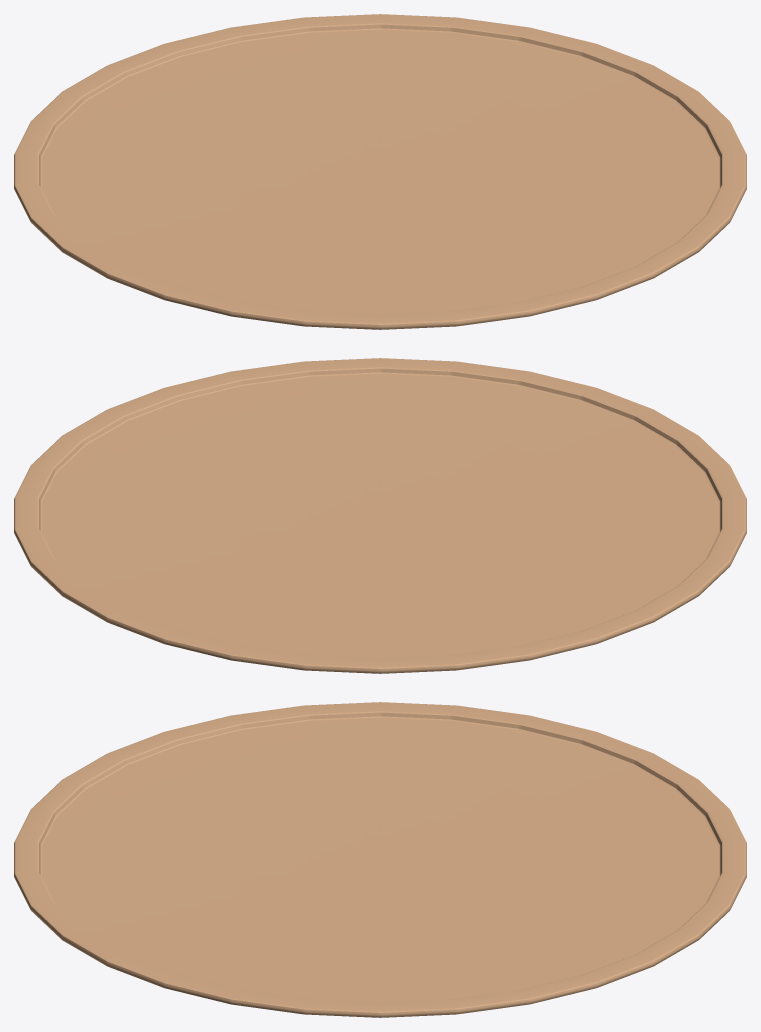
Rendered from colored carpet from bedroom.fbx.
The picture shows the model from 3 angles, top to bottom: view 1: azimuth 30°, elevation 25°; view 2: azimuth 150°, elevation 25°; view 3: azimuth 270°, elevation 25°; orthographic projection.
Parts seen in each view (by area): view 1: pCylinder1; view 2: pCylinder1; view 3: pCylinder1.
Boxes of the visible parts, left/top/right/bottom form: pCylinder1: left=14, top=14, right=746, bottom=329; pCylinder1: left=14, top=358, right=746, bottom=673; pCylinder1: left=14, top=702, right=746, bottom=1017.
Bounding box in the file's own units: 2 × 0.0191 × 1.99.
